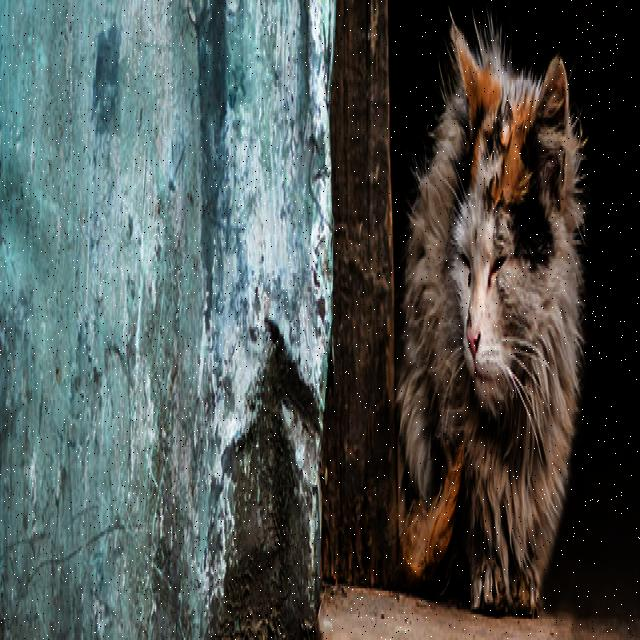cat: (398, 22, 585, 616)
